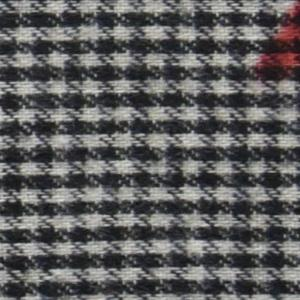Stain: (256, 1, 300, 84)
